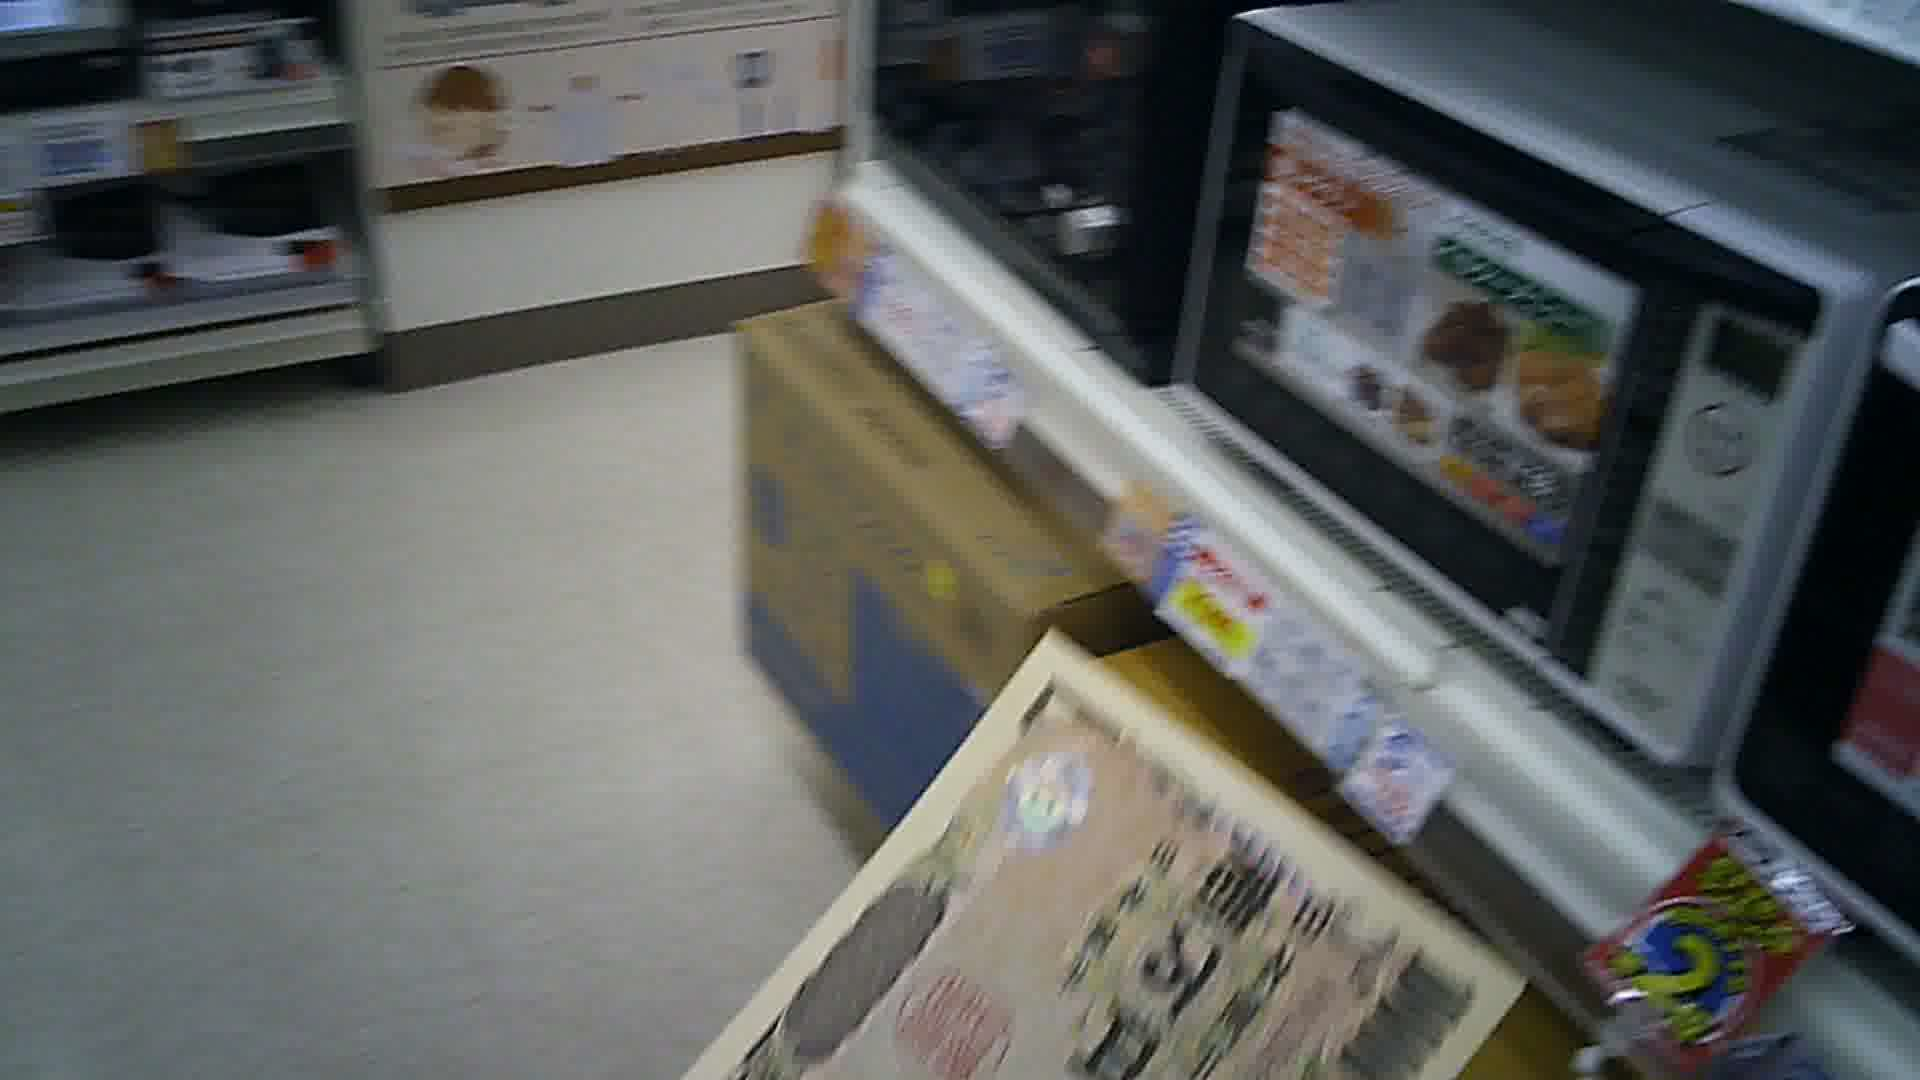10,000 Yen: (667, 636, 1528, 1079)
